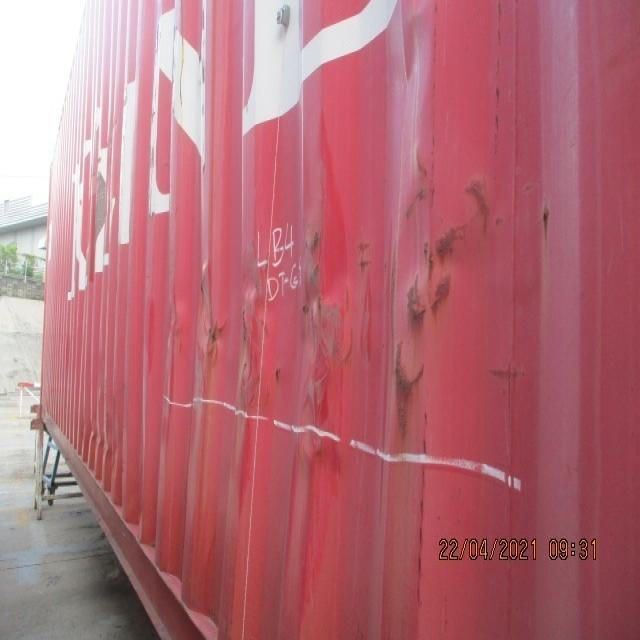dent: (153, 91, 530, 463), (76, 102, 104, 272), (82, 412, 127, 480)
